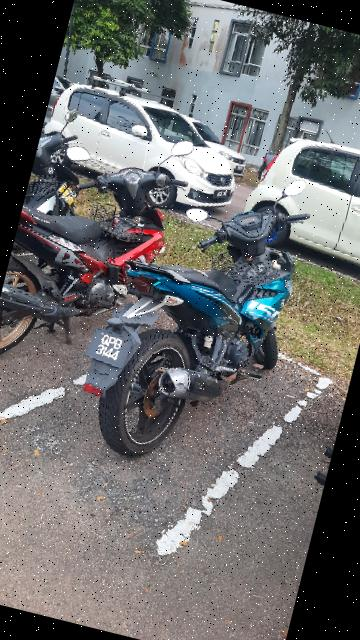License_Plate: (83, 326, 137, 372)
car: (39, 79, 249, 220), (238, 123, 360, 275)
motorcycle: (75, 136, 328, 487), (1, 104, 200, 394)
